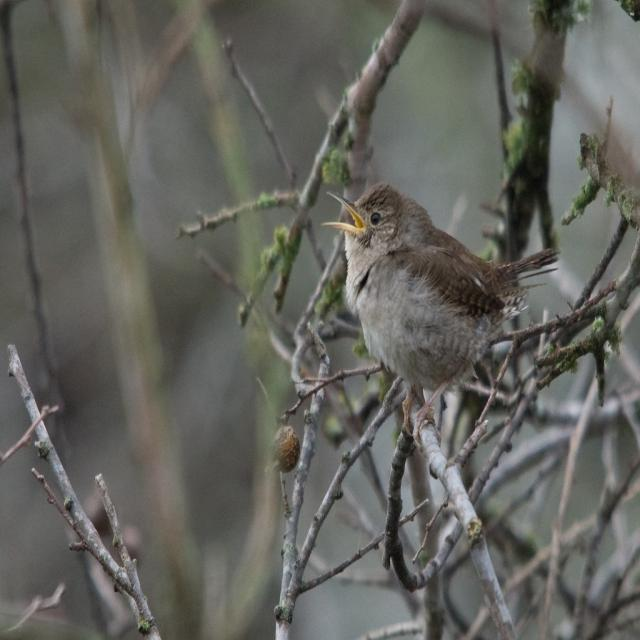bird: (322, 180, 556, 436)
